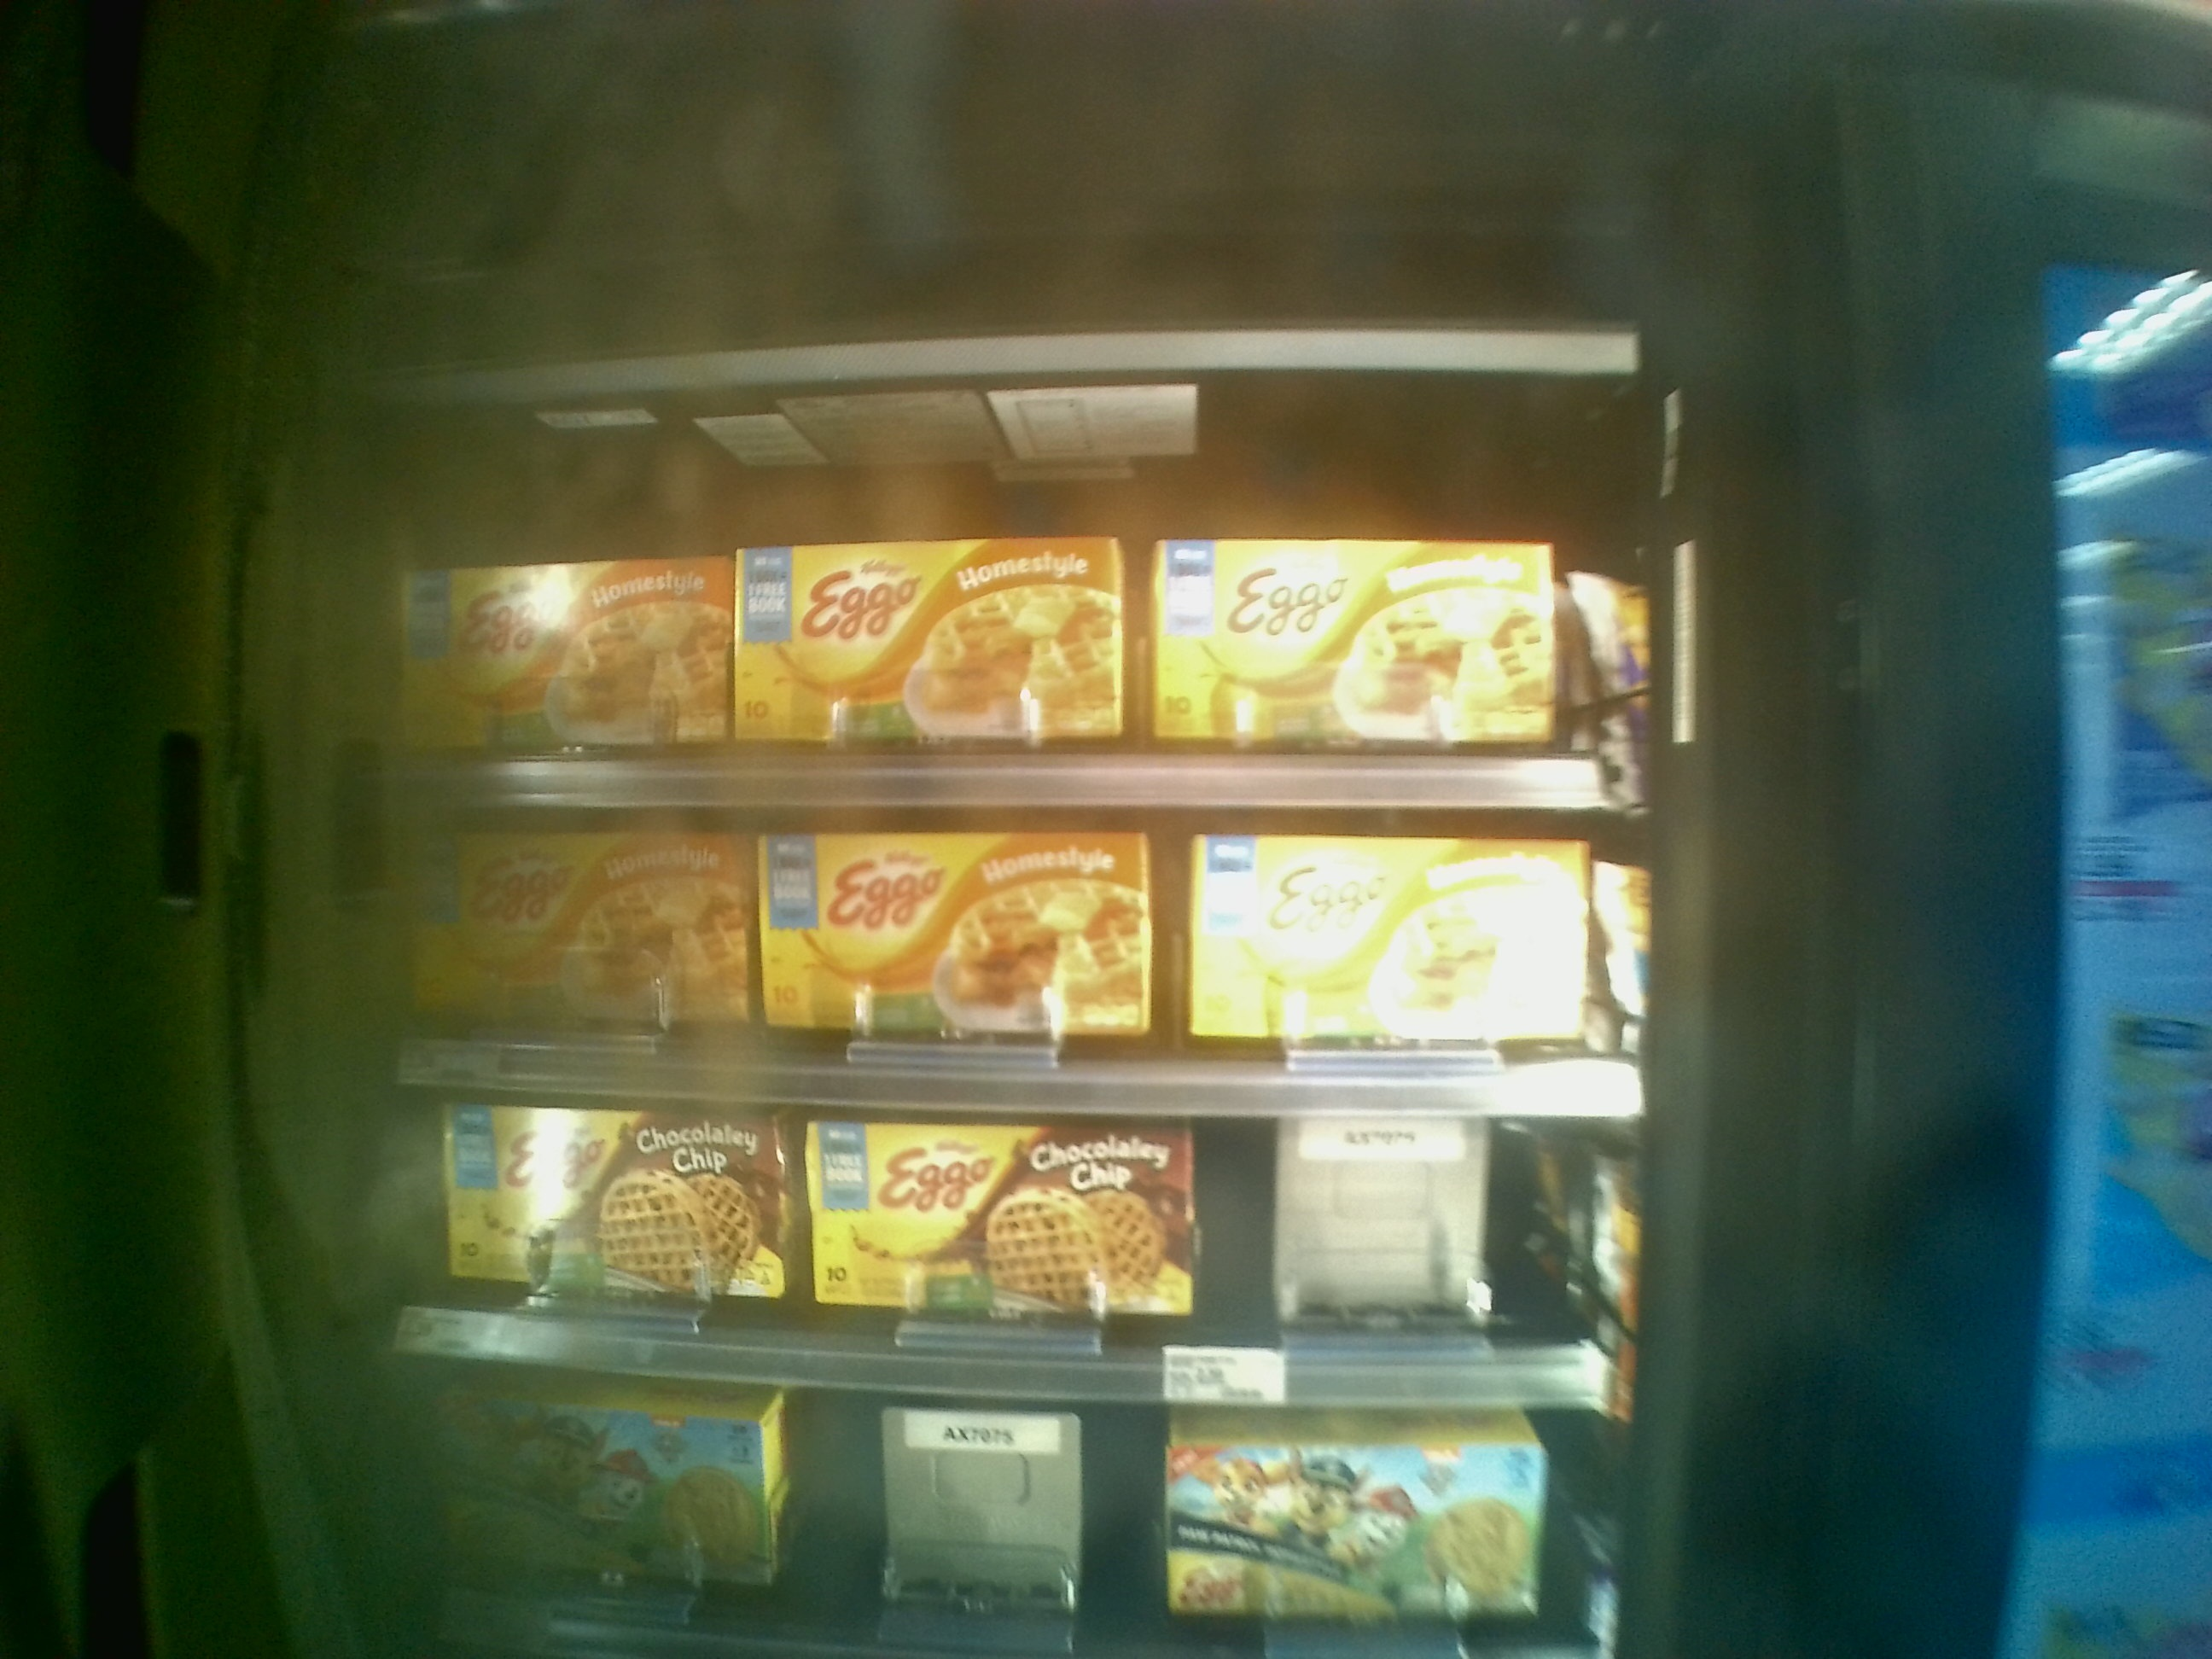shelf: (355, 342, 1635, 823), (374, 1098, 1634, 1412), (359, 819, 1641, 1121)
